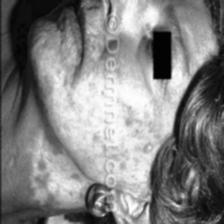Unclassified: (13, 155, 53, 206), (42, 78, 52, 103)
